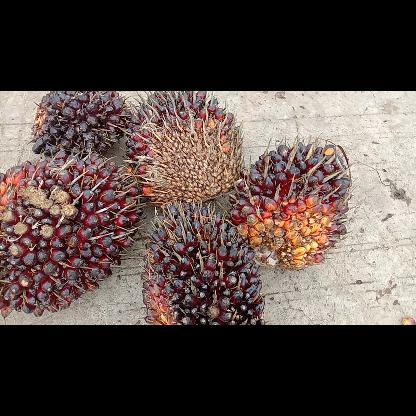TBS mentah: (0, 150, 145, 318), (226, 132, 354, 270), (140, 198, 264, 324), (122, 91, 244, 207), (30, 90, 132, 158)
